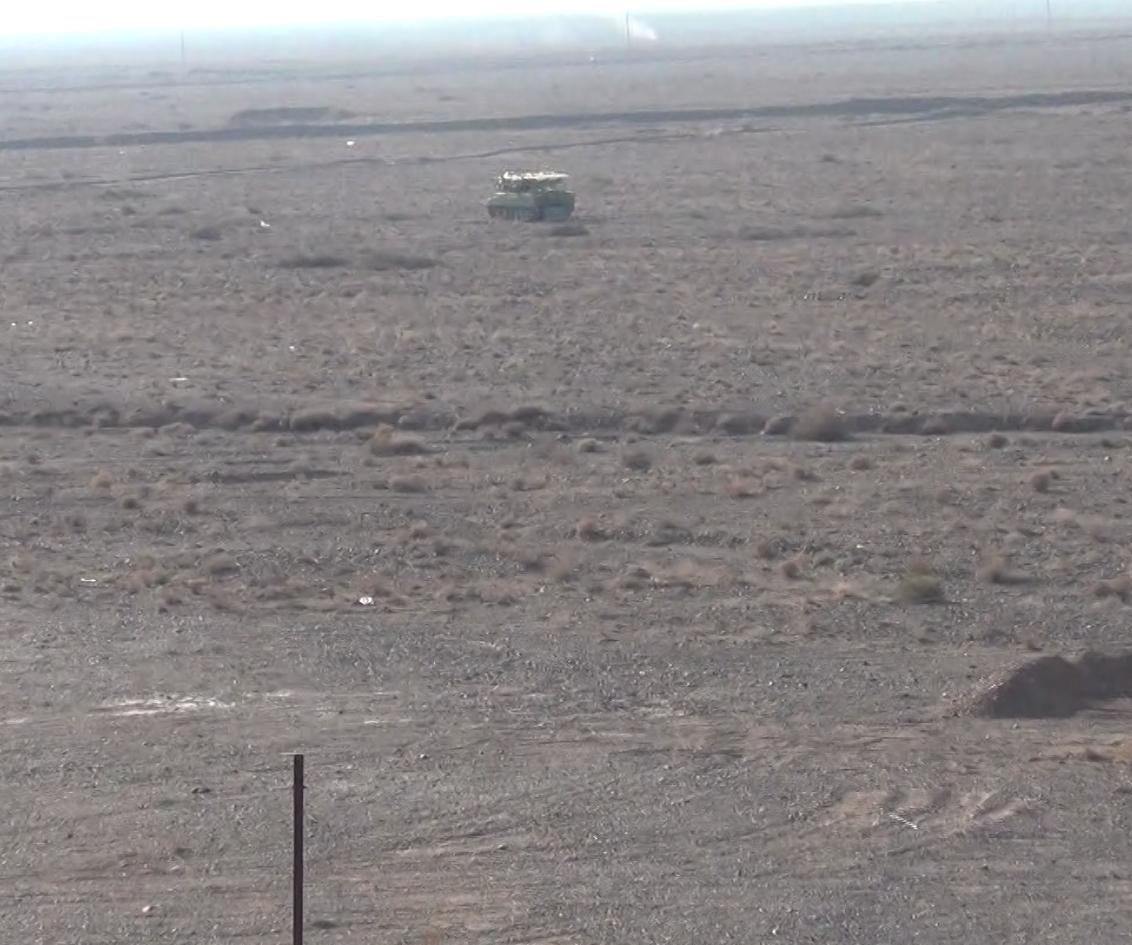armored_car: (486, 166, 576, 224)
